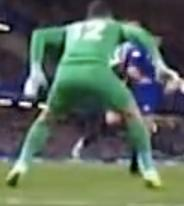goalkeeper: (5, 0, 184, 200)
